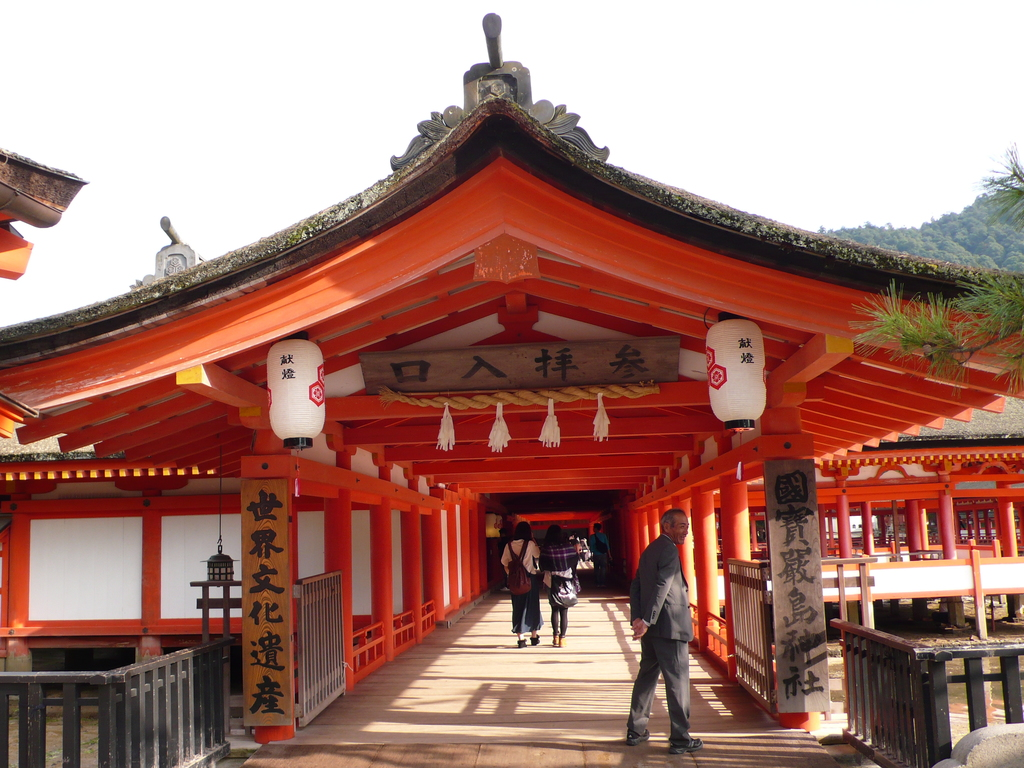Tree: (816, 140, 1024, 399)
